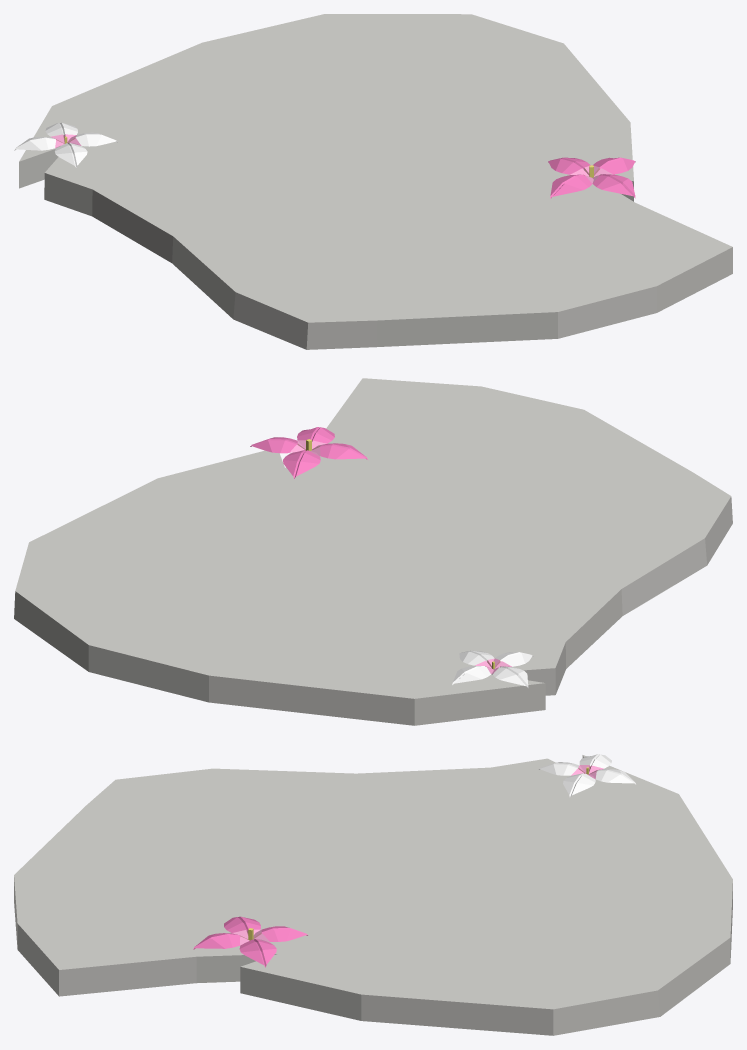
The model's file is stone-type-001.obj.
3 renders of one model, top to bottom at view 1: azimuth 30°, elevation 25°; view 2: azimuth 150°, elevation 25°; view 3: azimuth 270°, elevation 25°, orthographic.
Visible parts, largest first — view 1: stone-type-001; view 2: stone-type-001; view 3: stone-type-001.
Part boxes in pixels (box(x1,y1,x2,y2)): stone-type-001: box(14, 14, 732, 349); stone-type-001: box(14, 378, 732, 725); stone-type-001: box(14, 754, 732, 1035).
Bounding box in the file's own units: 0.441 × 0.0383 × 0.5261.
